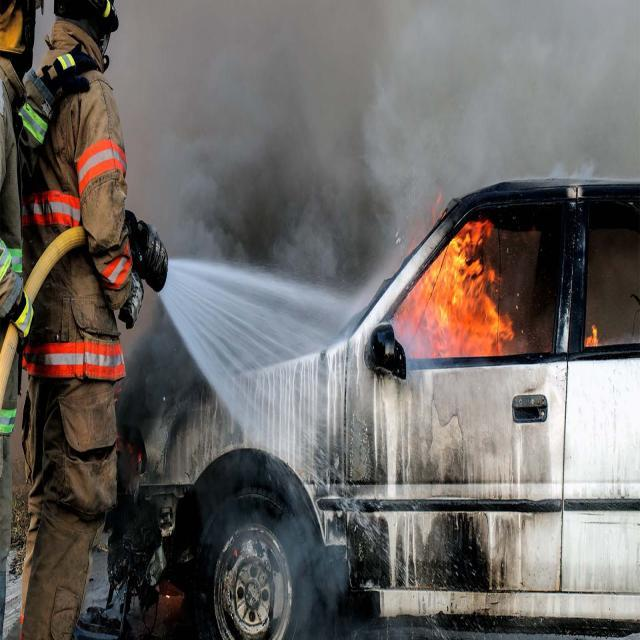Fire: (412, 218, 517, 358)
Smoke: (113, 0, 640, 286), (114, 310, 351, 640)
